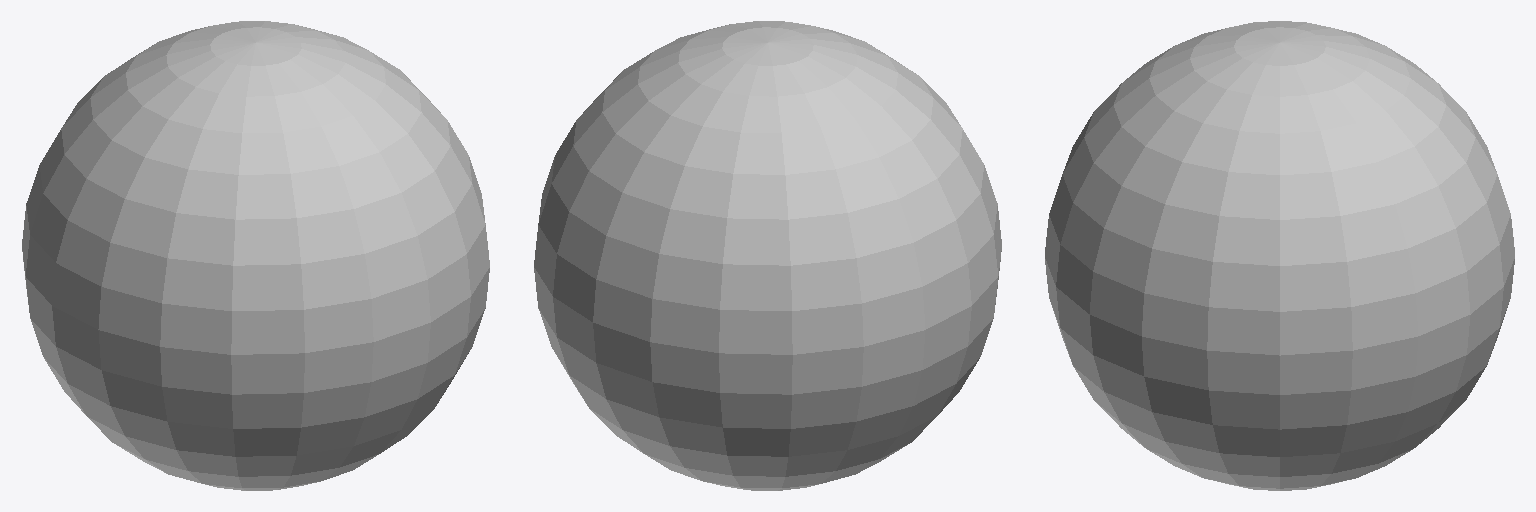
The model's file is ball_smooth.obj.
3 views of the same model, side by side, from view 1: azimuth 30°, elevation 25°; view 2: azimuth 150°, elevation 25°; view 3: azimuth 270°, elevation 25° (orthographic).
Visible parts, largest first — view 1: Sphere.002; view 2: Sphere.002; view 3: Sphere.002.
Part boxes in pixels (left/top/right/bottom): Sphere.002: left=22, top=21, right=489, bottom=490; Sphere.002: left=534, top=21, right=1001, bottom=490; Sphere.002: left=1045, top=21, right=1514, bottom=490.
Bounding box in the file's own units: 1.5 × 1.5 × 1.5.